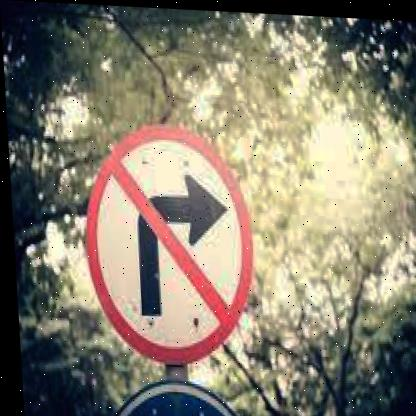No right turn: (78, 122, 252, 362)
